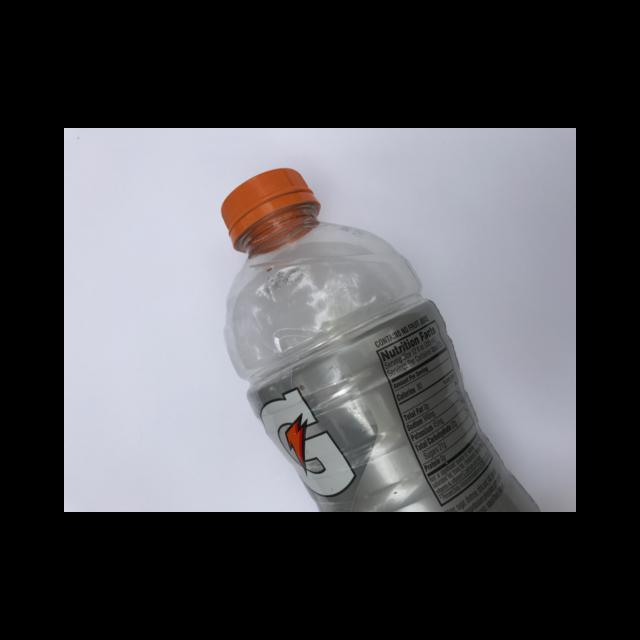plastic: (220, 168, 540, 511), (245, 296, 539, 511), (220, 167, 319, 251)
